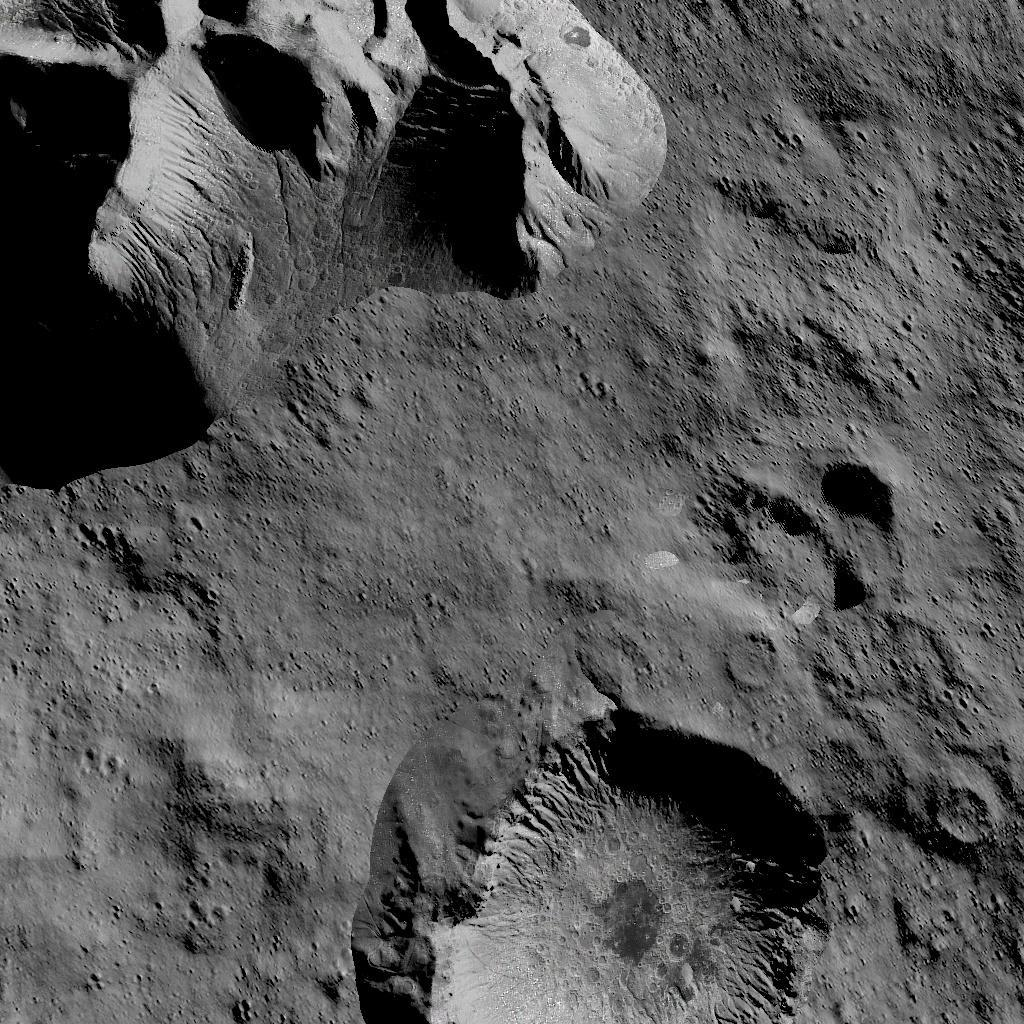Boulders: (0, 0, 666, 489)
Crater: (349, 702, 834, 1024), (708, 452, 894, 615), (927, 771, 999, 852), (957, 875, 1024, 959), (719, 629, 781, 692)
Plan surface: (711, 0, 1024, 441), (3, 516, 650, 690), (3, 696, 301, 1024)
